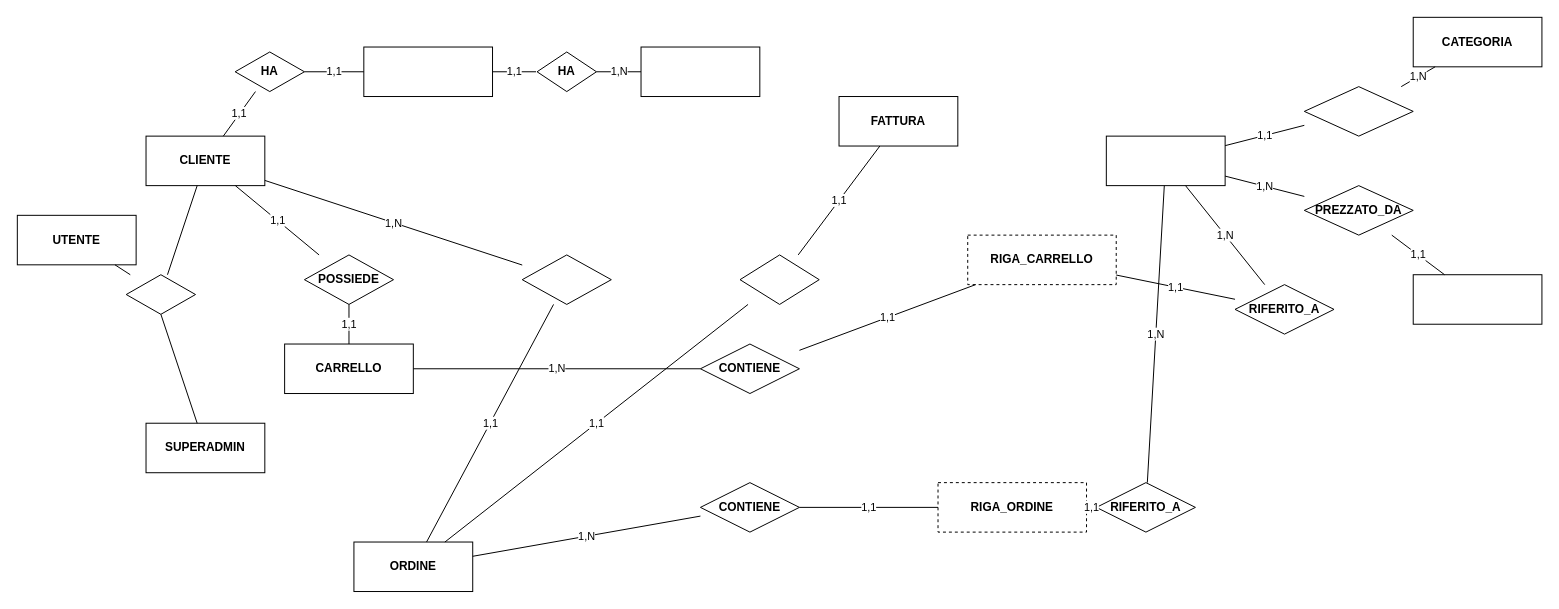
Some shapes in this 1559 by 609 pixel diagram are drawn without their labels. The centre of each missing label's shape, as x and y in pixels:
"ANAGRAFICA" belongs at pixel 428 71.
"APPARTIENE" belongs at pixel 1358 111.
"EFFETTUA" belongs at pixel 566 279.
"GENERA" belongs at pixel 779 279.
"INDIRIZZO" belongs at pixel 700 71.
"ISA" belongs at pixel 160 294.
"LISTINO" belongs at pixel 1477 299.
"PRODOTTO" belongs at pixel 1165 160.
